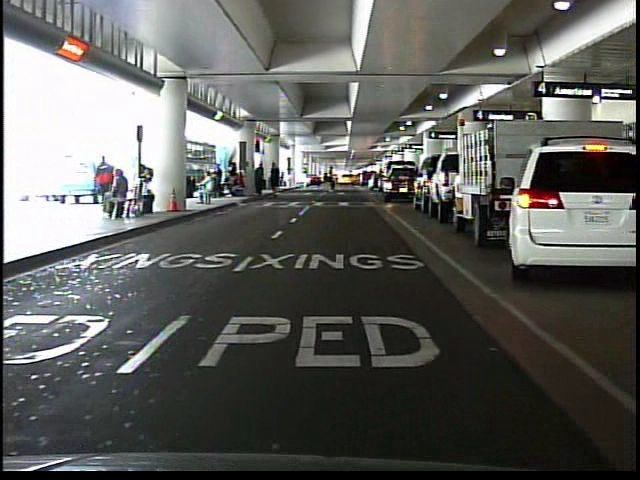person: (196, 171, 219, 208), (317, 163, 338, 196)
